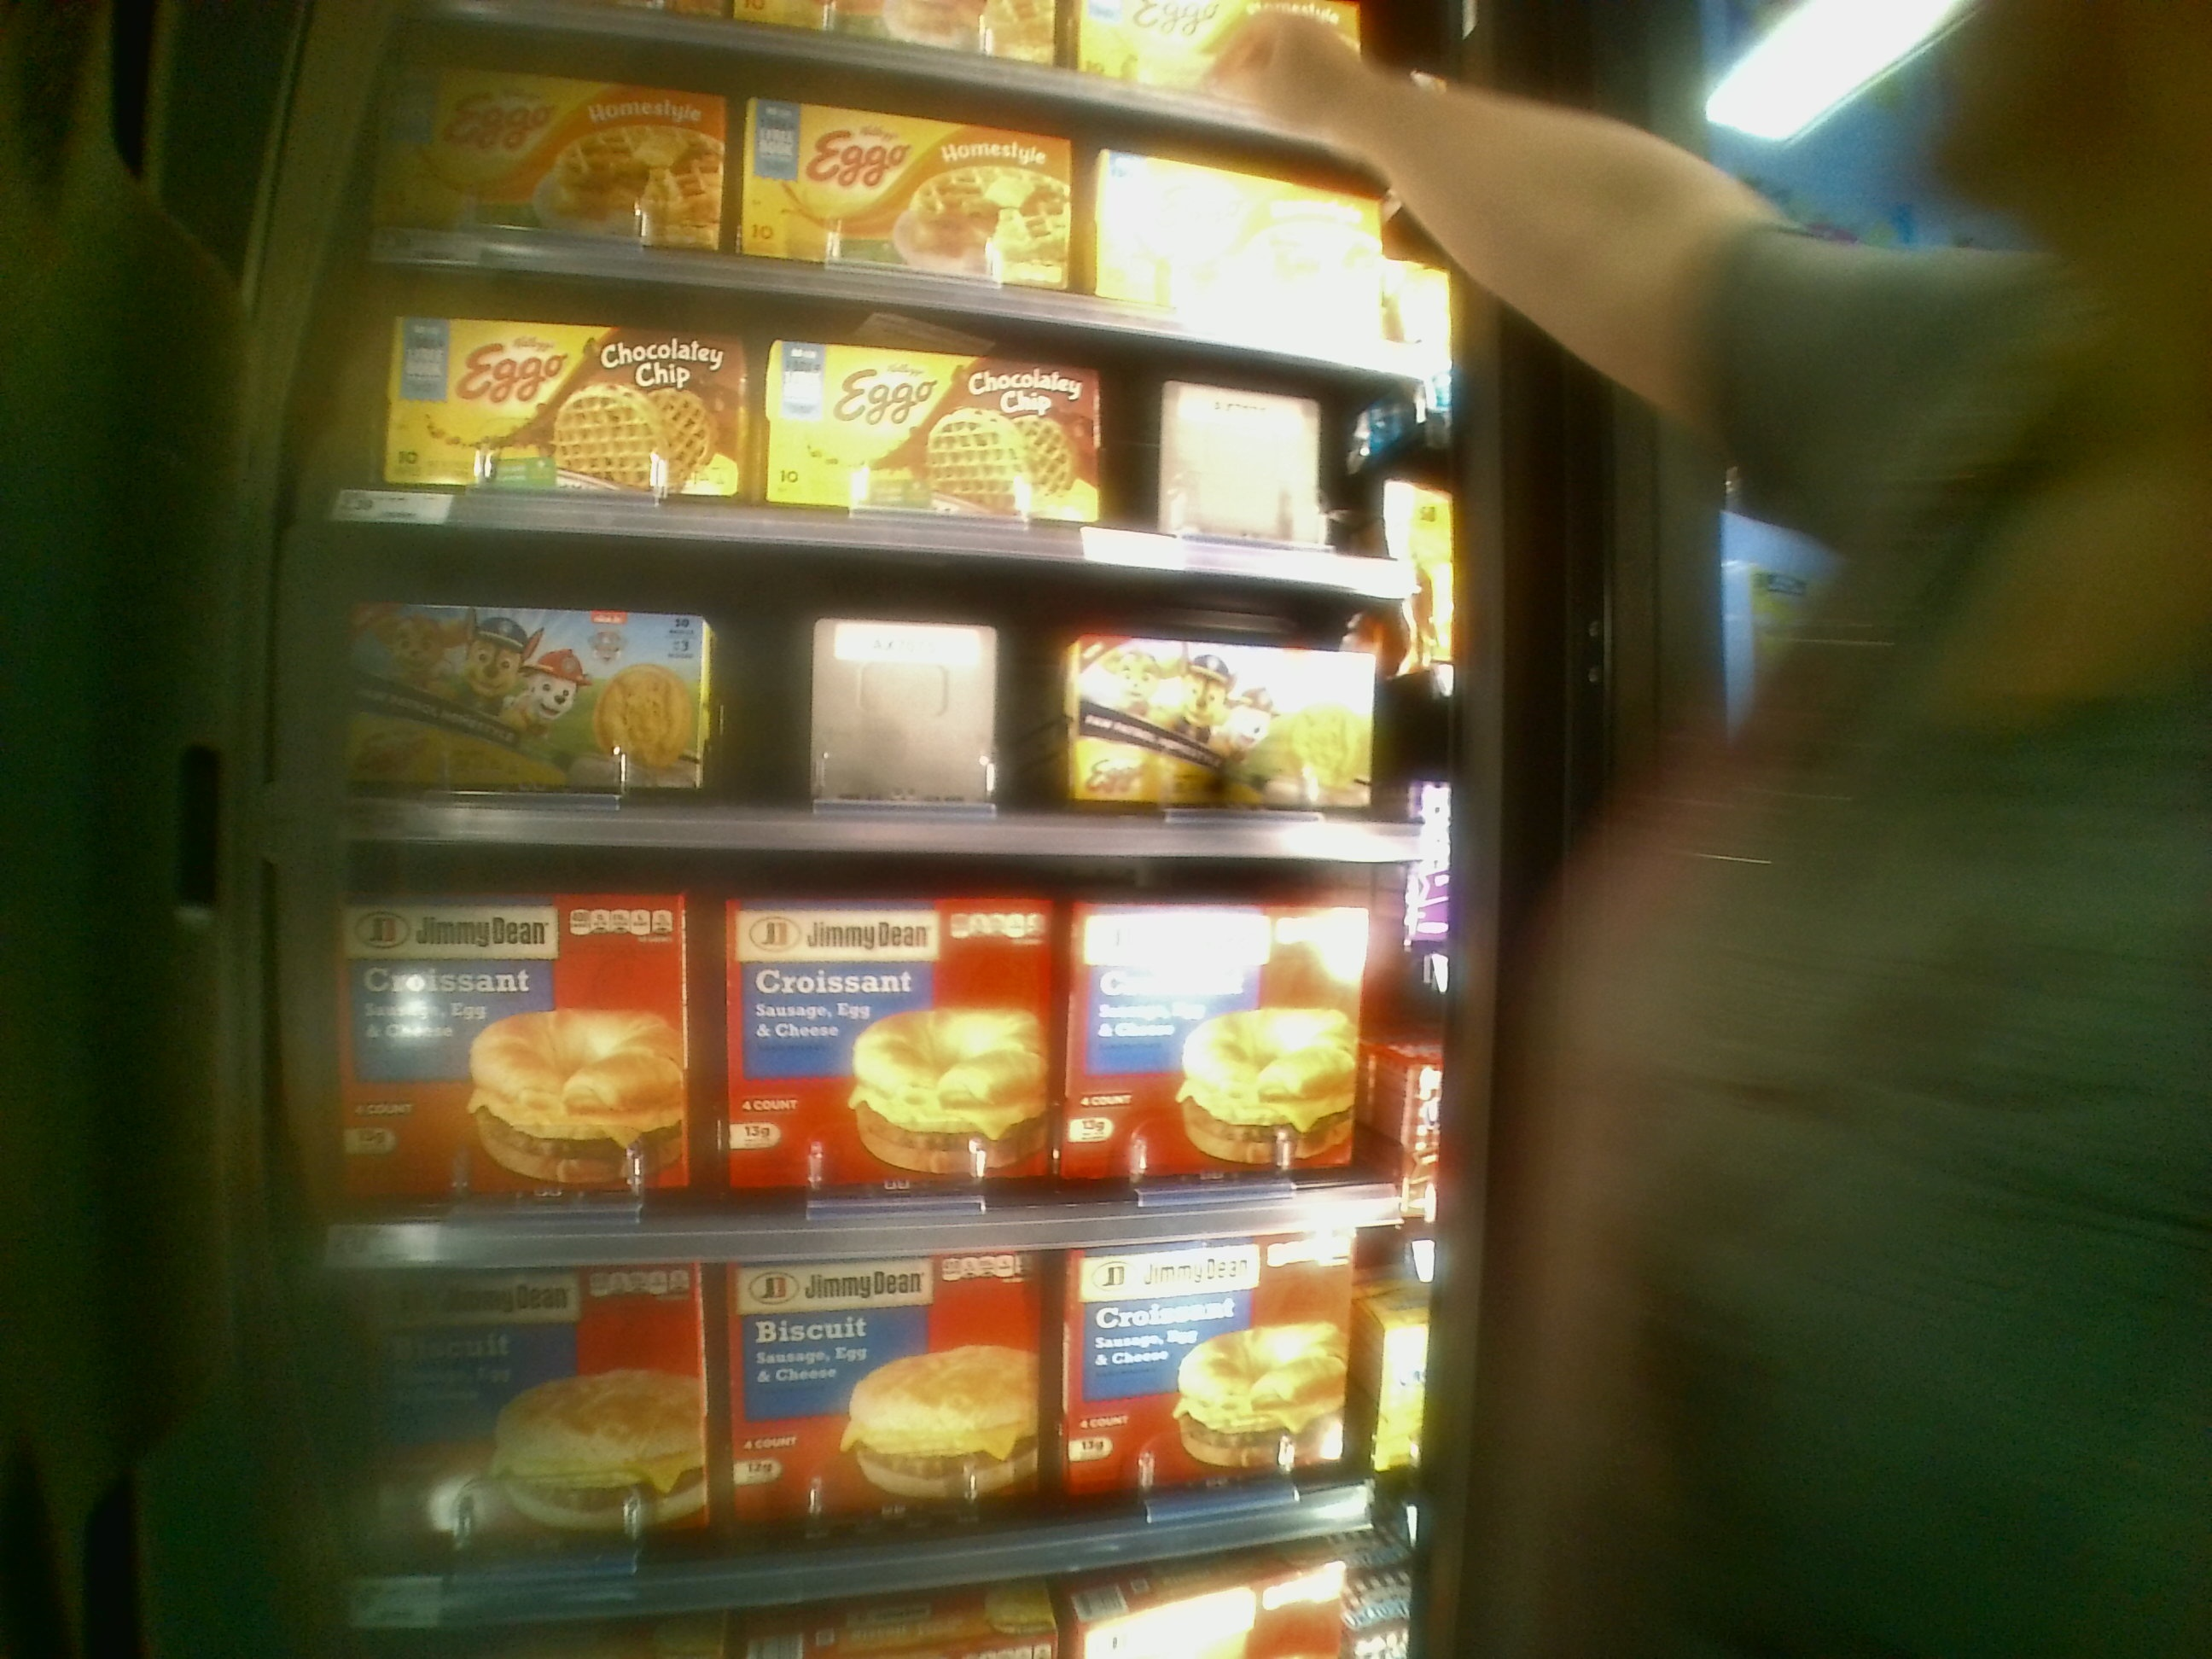shelf: (329, 849, 1446, 1263), (329, 523, 1430, 849)
